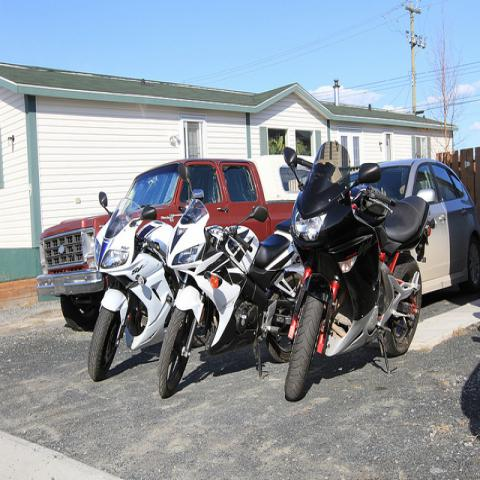car: (352, 157, 480, 298)
motorcycle: (280, 137, 435, 402), (158, 166, 302, 397), (87, 192, 190, 384)
truck: (36, 160, 297, 334)
